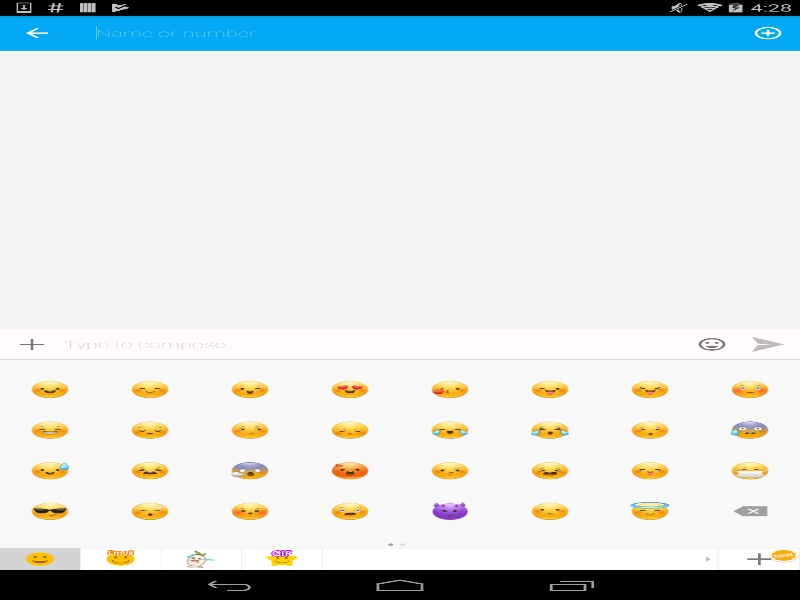Button: (736, 15, 800, 50), (0, 329, 64, 359), (736, 329, 800, 359), (693, 335, 730, 353)
Input: (96, 18, 714, 48), (64, 335, 688, 353)
